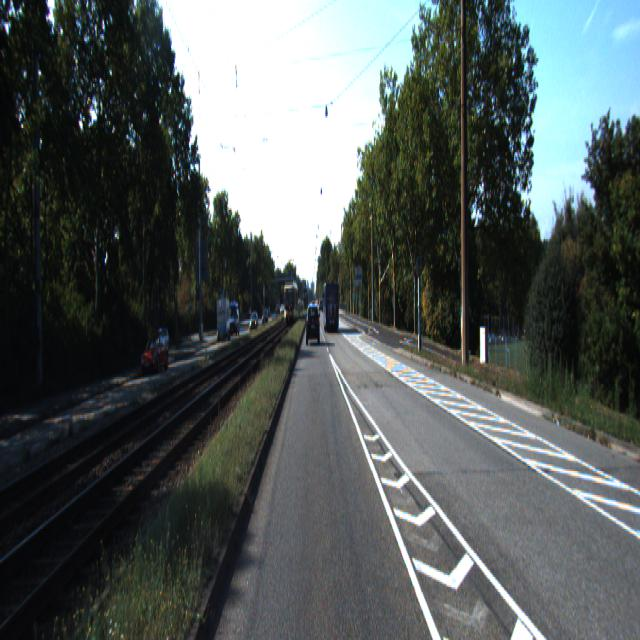Car: (141, 334, 169, 378), (323, 282, 339, 332), (216, 298, 230, 344), (306, 304, 320, 346)
